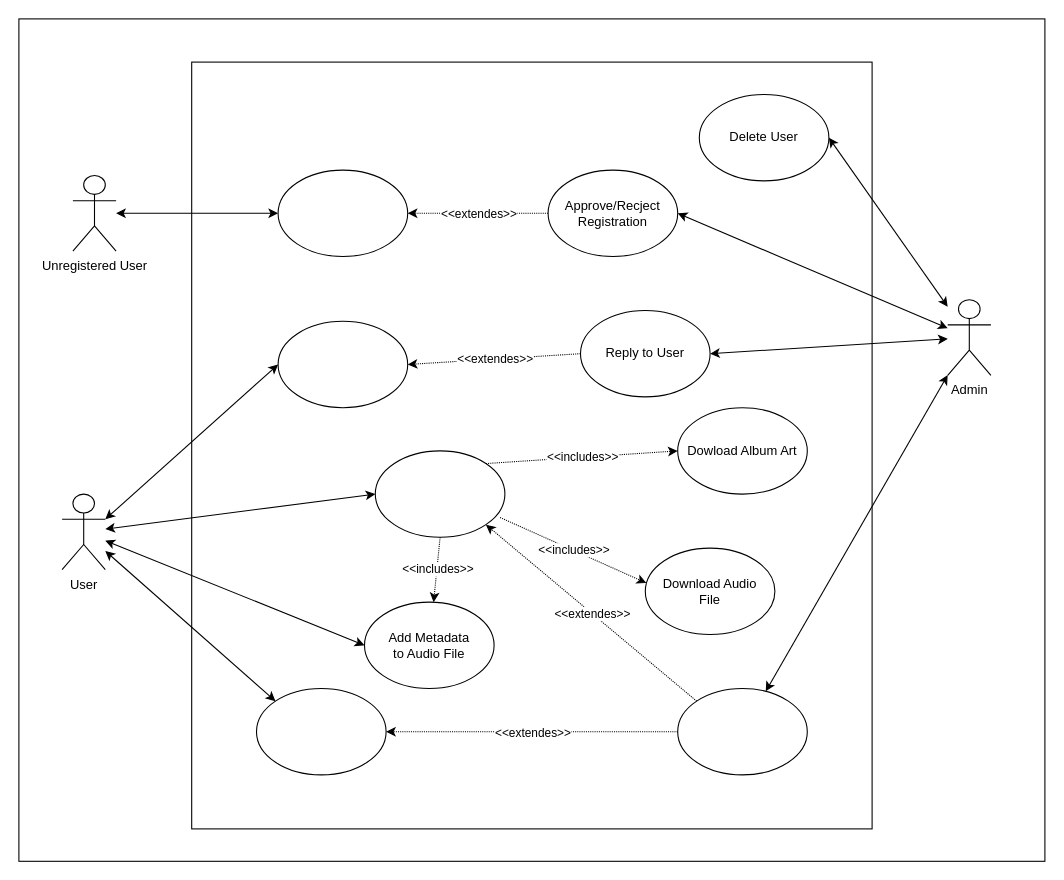
This 1064x880 diagram has some shape labels left out. The centre of each missing label's shape, as x and y in pixels:
Approve/Recject Download: pixel 742 731
Communicate with Admin: pixel 342 364
Download Song: pixel 439 493
Register: pixel 342 212
Request Download: pixel 320 731
